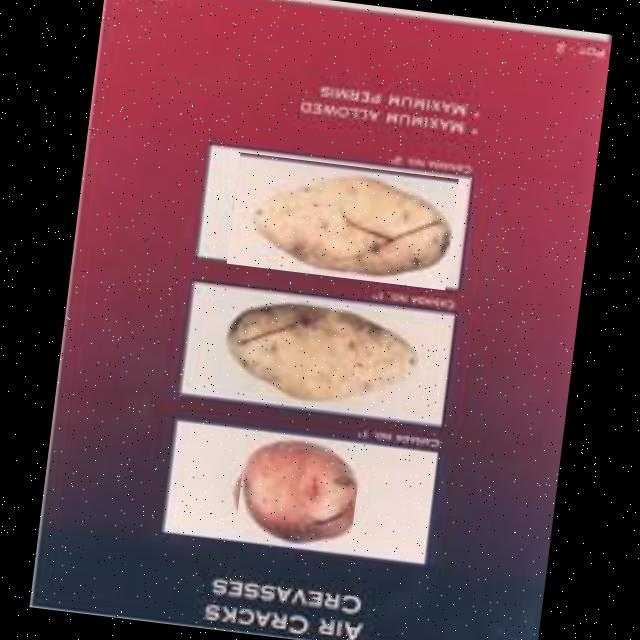Damaged potato: (225, 151, 458, 289), (224, 288, 436, 418)
Defected potato: (233, 430, 361, 549)
